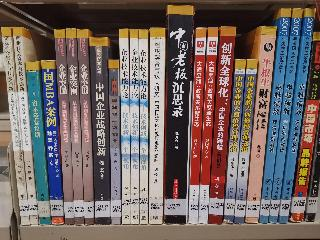book-spine: (275, 6, 318, 224), (257, 8, 293, 225), (267, 7, 303, 224), (240, 26, 277, 224), (162, 6, 193, 224), (1, 26, 31, 227), (209, 26, 239, 226), (11, 24, 39, 226), (230, 59, 260, 225), (24, 59, 52, 225), (39, 58, 65, 225), (53, 29, 75, 225), (186, 28, 208, 224), (64, 28, 85, 226), (89, 37, 111, 226), (197, 27, 218, 225), (147, 26, 166, 225), (225, 60, 246, 225), (77, 29, 94, 225), (107, 59, 124, 225), (118, 29, 131, 225), (128, 29, 139, 225), (139, 30, 149, 224)
